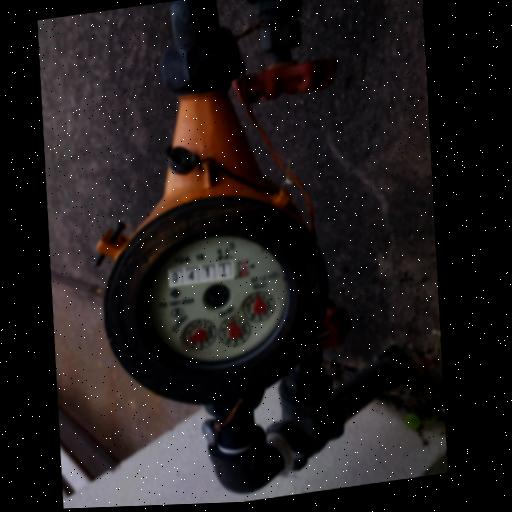0: (170, 269, 184, 285)
1: (202, 264, 216, 280), (219, 262, 233, 278)
4: (237, 260, 250, 277), (186, 267, 200, 282)
border_water_meter_number: (166, 258, 252, 288)
